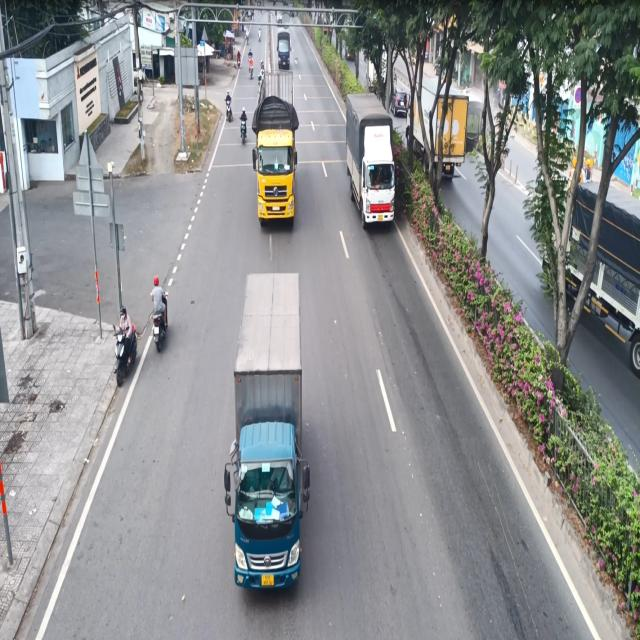motor: (148, 274, 171, 356), (222, 90, 234, 130), (240, 100, 249, 146)
truck: (228, 266, 311, 602), (344, 92, 397, 228), (258, 68, 298, 237), (275, 28, 293, 71)
